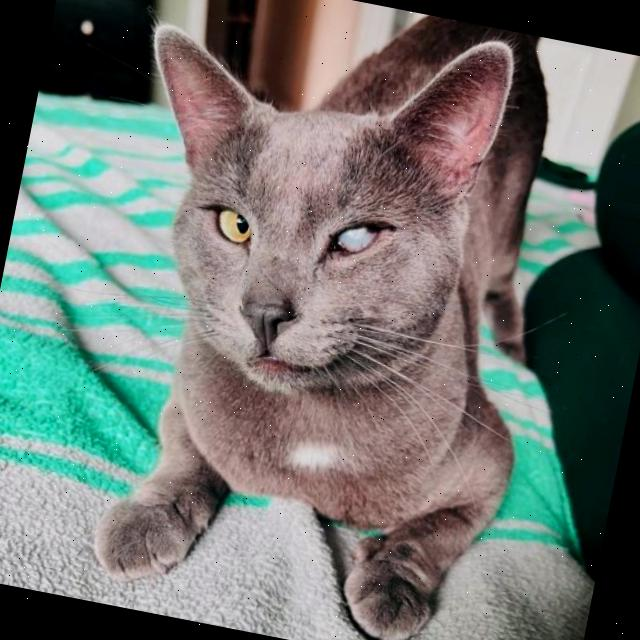russian_blue_cat: (78, 0, 546, 467)
